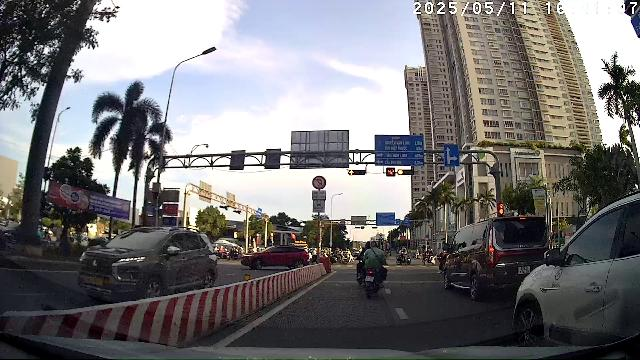103c-cam-oto-re-trai: (312, 175, 327, 189)
